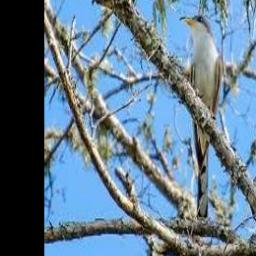Cuckoo: (181, 14, 223, 225)
